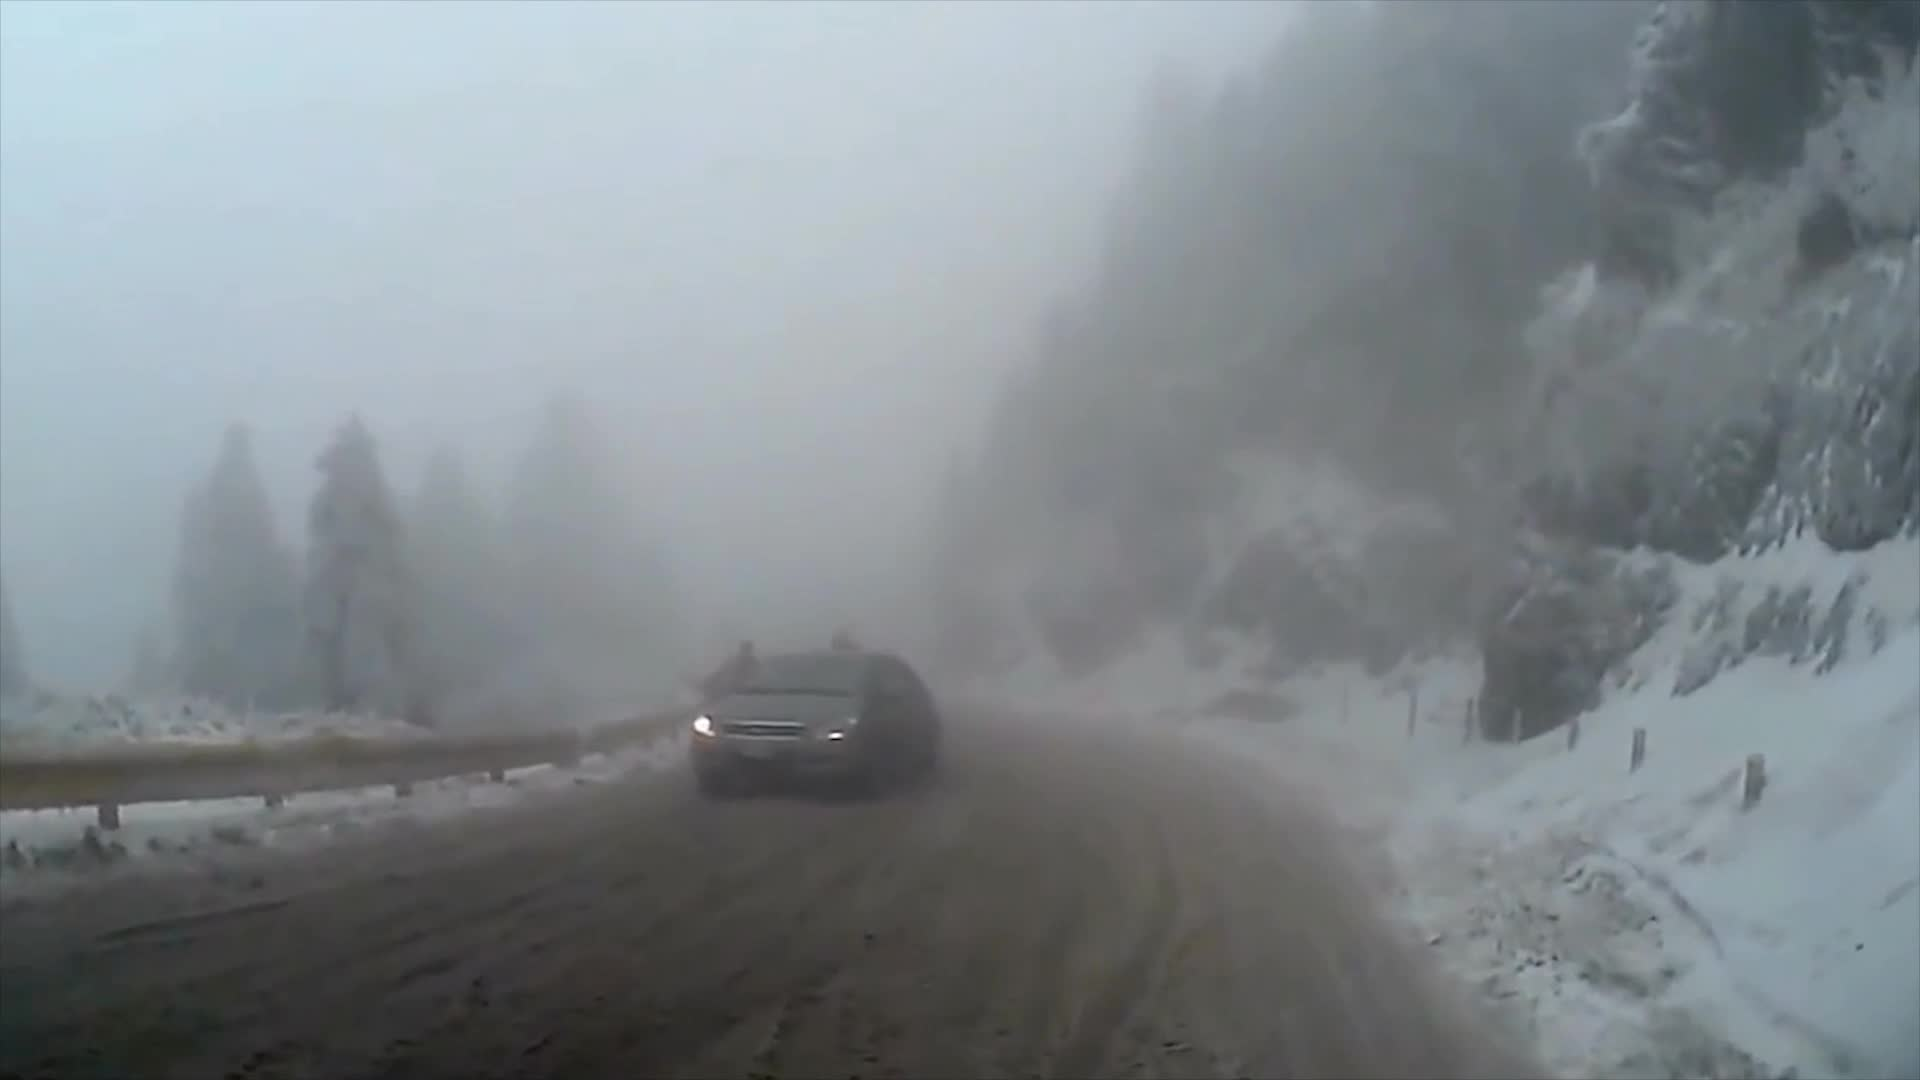vehicle: (688, 651, 939, 800)
